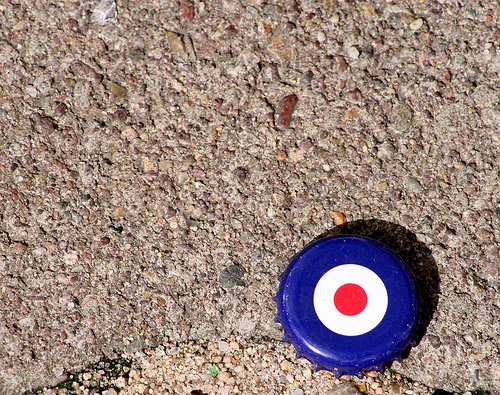litter: (275, 231, 418, 377)
